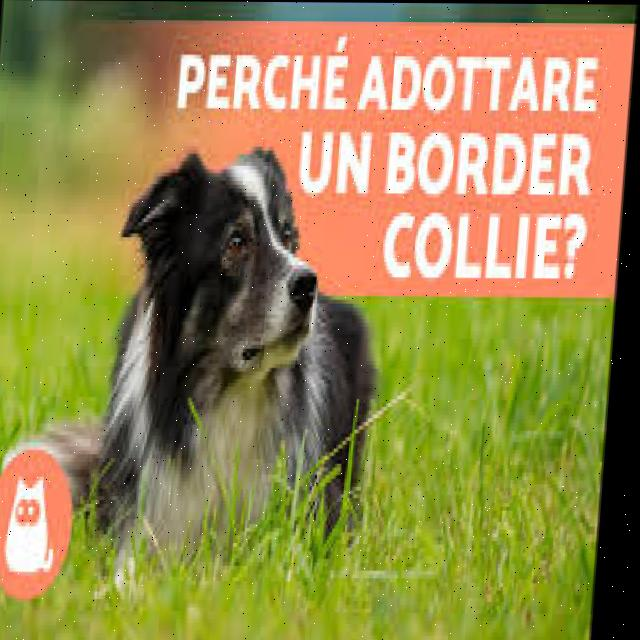BORDER_COLLIE: (8, 133, 396, 563)
